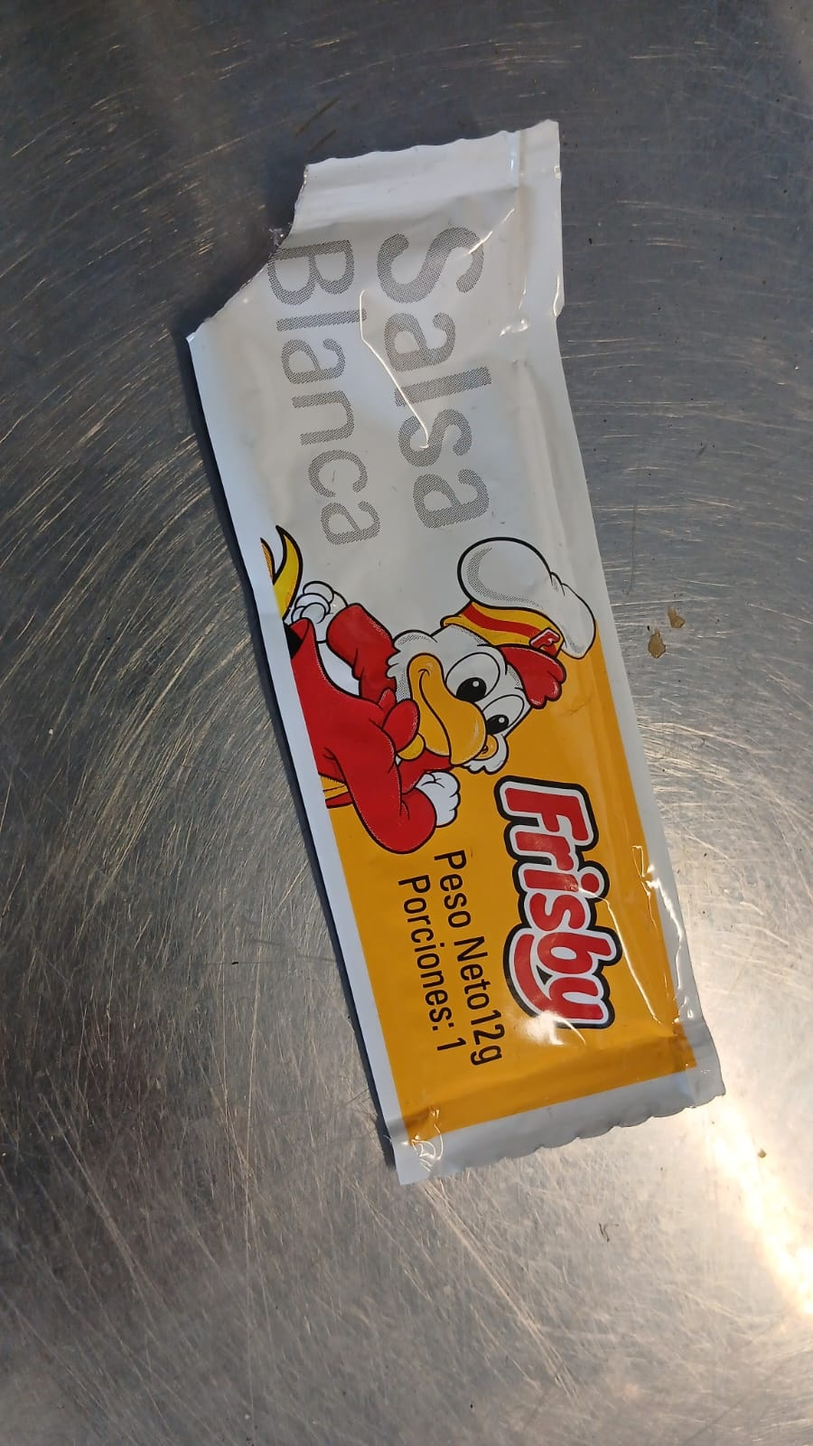Ordinario: (179, 121, 726, 1184)
